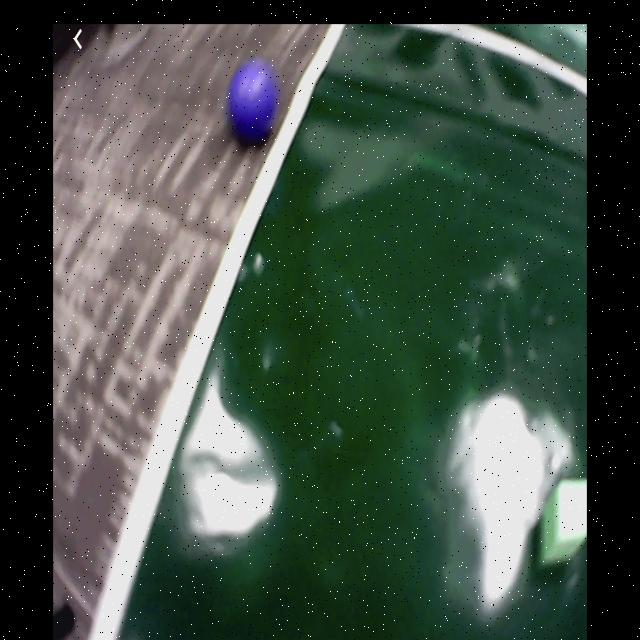ball: (231, 65, 276, 139)
